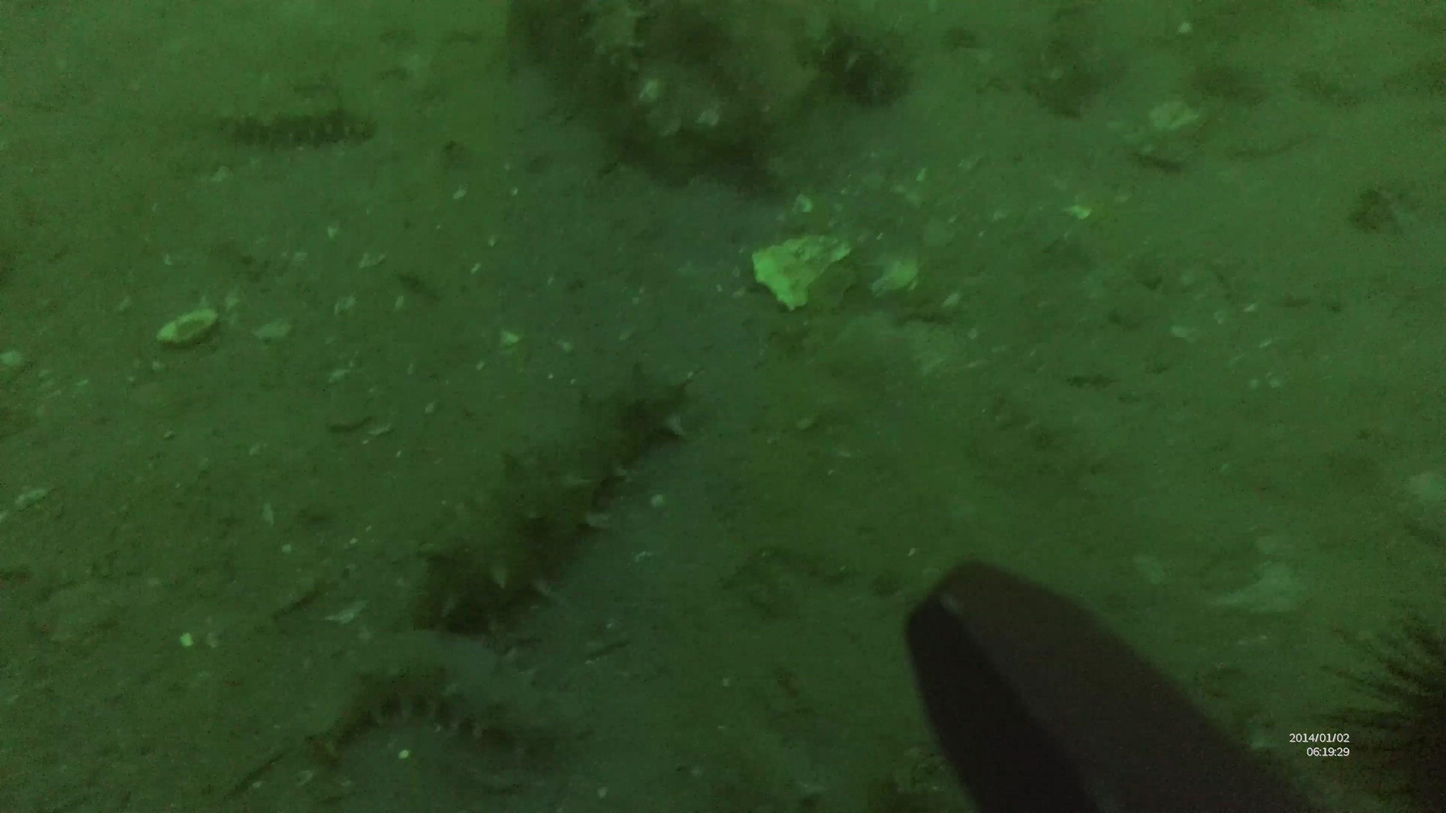echinus: (416, 334, 689, 630), (315, 640, 558, 781), (790, 9, 914, 100), (197, 93, 366, 145)
starfish: (1333, 612, 1446, 813)
